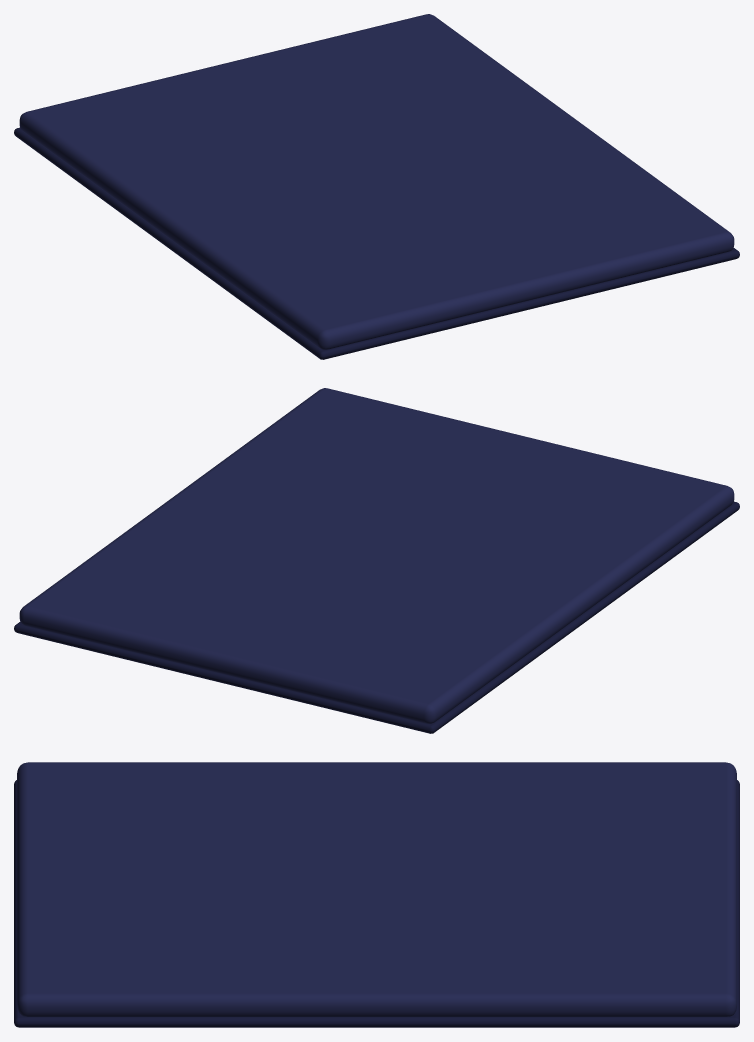
The model's file is frame.glb.
3 views of the same model, one above another, from view 1: azimuth 30°, elevation 25°; view 2: azimuth 150°, elevation 25°; view 3: azimuth 270°, elevation 25° (orthographic). The views are drawn at different scales.
Parts seen in each view (by area): view 1: Cube; view 2: Cube; view 3: Cube.
Boxes of the visible parts, x1,y1,x2,y2 form: Cube: [14, 14, 739, 359]; Cube: [14, 388, 739, 733]; Cube: [14, 762, 739, 1027].
Size of the model in its own units: 7.4 by 0.43 by 9.4.
